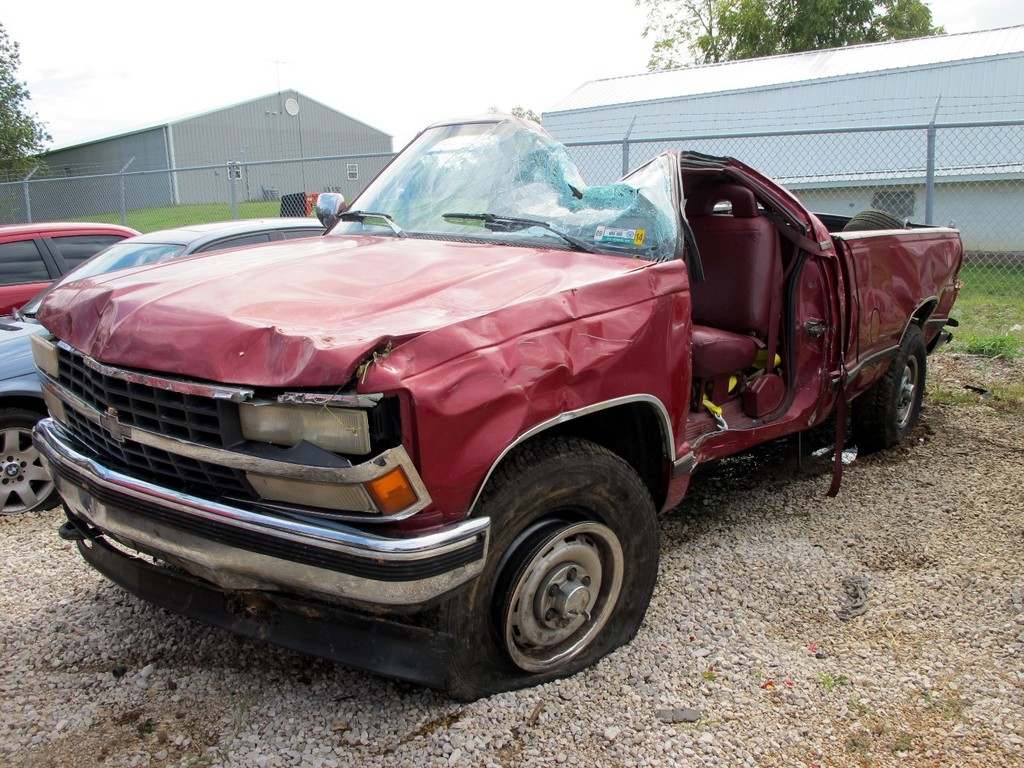Car: (0, 217, 350, 509), (0, 227, 142, 324)
